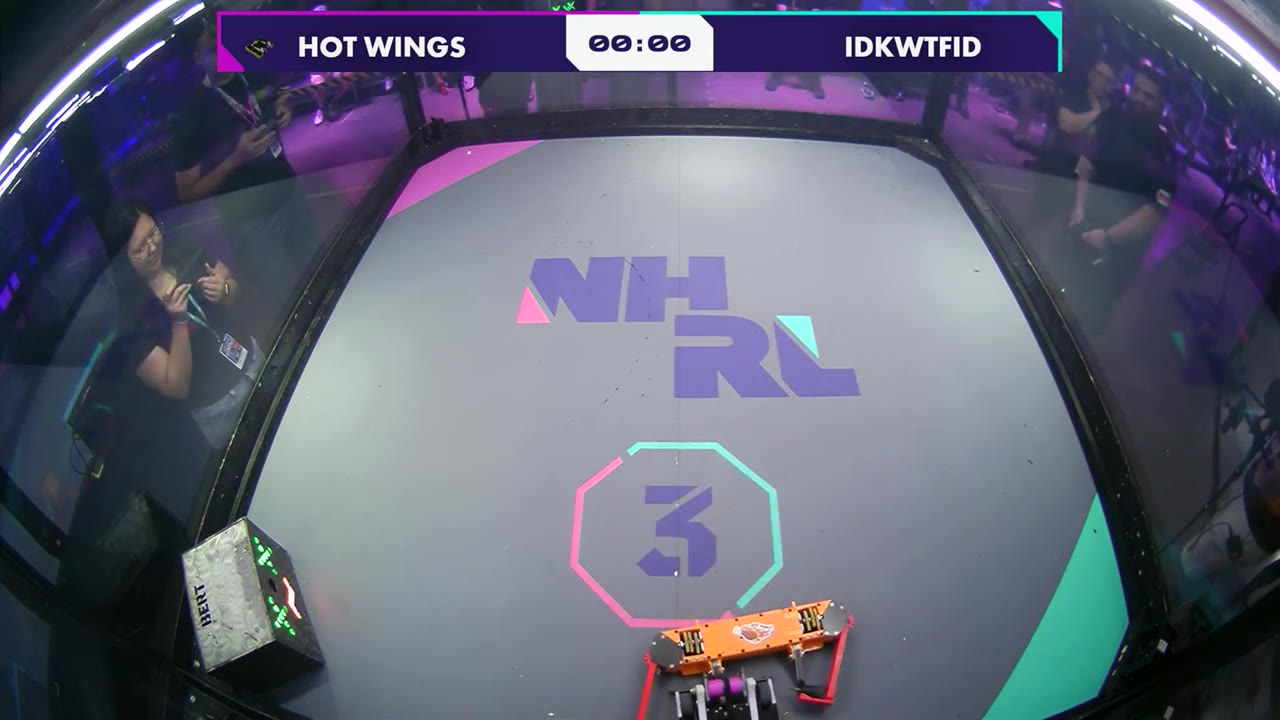combatbot: (651, 600, 850, 668), (675, 654, 779, 720)
housebot: (175, 519, 327, 684)
